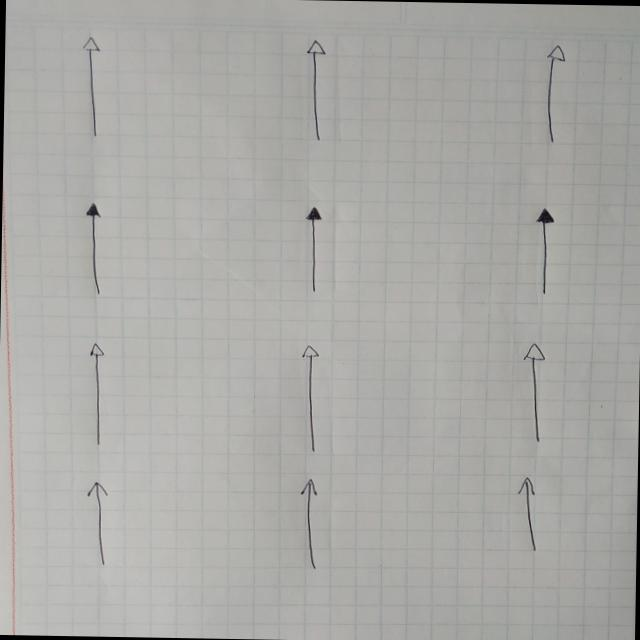arrow_line_up: (518, 340, 552, 446), (296, 342, 326, 453), (79, 478, 115, 568), (300, 38, 330, 144), (76, 34, 106, 138), (540, 43, 567, 148), (84, 339, 110, 447), (296, 476, 324, 572), (511, 474, 543, 556), (80, 199, 106, 297), (298, 203, 324, 298), (530, 205, 556, 296)
